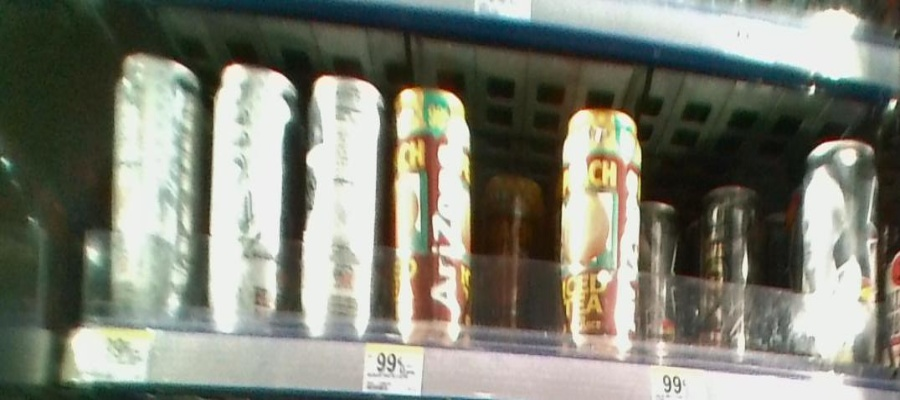bottle: (104, 33, 203, 331), (209, 48, 297, 341), (386, 67, 476, 352), (299, 54, 378, 344), (559, 102, 644, 362), (802, 136, 880, 370), (480, 151, 538, 335), (702, 178, 758, 359), (644, 196, 679, 349)
